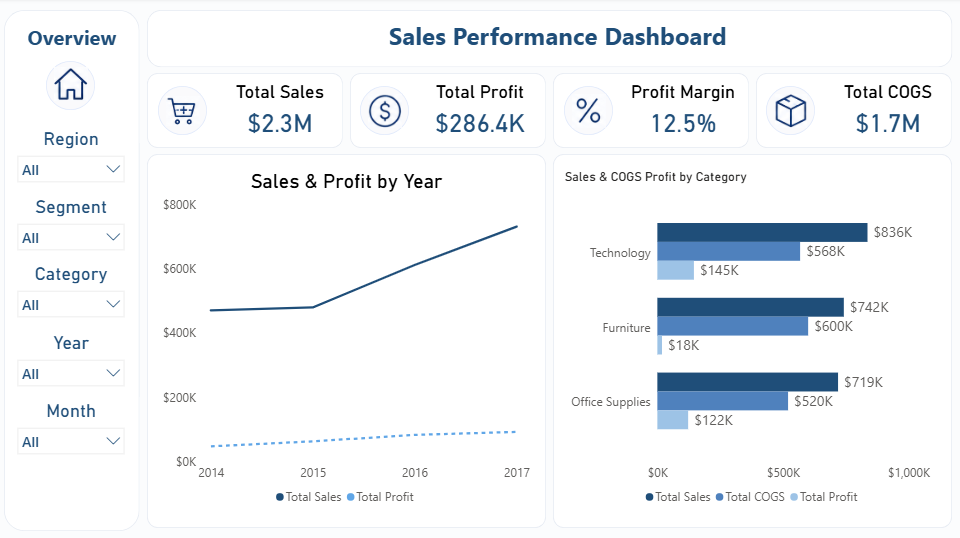

Layout of this report page (visuals, bound fields, positions):
{"tool":"powerbi","page":{"name":"Sales Overview","canvas":[1280,720],"ordinal":0},"visuals":[{"type":"shape","box":[199,16.1,1069.8,76.1],"z":0},{"type":"textbox","box":[505.1,22,480.3,64.7],"z":1000},{"type":"shape","box":[199.3,99.6,260.4,99.6],"z":2000},{"type":"shape","box":[468.9,99.6,260.4,99.6],"z":3000},{"type":"shape","box":[738.6,99.6,260.4,99.6],"z":4000},{"type":"shape","box":[1008.3,99.6,260.4,99.6],"z":5000},{"type":"shape","box":[199.3,207.2,530,496.8],"z":6000},{"type":"shape","box":[738.6,207.2,530,496.8],"z":7000},{"type":"shape","box":[8.8,16.1,180,692.2],"z":8000},{"type":"card","title":"Total Sales","fields":{"Values":["All Measures.Total Sales"]},"box":[304.2,110.3,143.5,78.4],"z":9000},{"type":"card","title":"Total Profit","fields":{"Values":["All Measures.Total Profit"]},"box":[569.9,110.3,143.5,78.4],"z":10000},{"type":"card","title":"Profit Margin","fields":{"Values":["All Measures.Profit Margin %"]},"box":[836.9,110.3,148.8,78.4],"z":11000},{"type":"card","title":"Total COGS","fields":{"Values":["All Measures.Total COGS"]},"box":[1111.9,110.3,143.5,78.4],"z":12000},{"type":"lineChart","title":"Sales & Profit by Year","fields":{"Category":["Calendar.Date.Variation.Date Hierarchy.Year","Calendar.Date.Variation.Date Hierarchy.Quarter","Calendar.Date.Variation.Date Hierarchy.Month","Calendar.Date.Variation.Date Hierarchy.Day"],"Y":["All Measures.Total Sales","All Measures.Total Profit"]},"box":[215.2,227.2,498.2,455.6],"z":13000},{"type":"clusteredBarChart","title":"Sales & COGS Profit by Category","fields":{"Y":["All Measures.Total Sales","All Measures.Total COGS","All Measures.Total Profit"],"Category":["Orders.Category"]},"box":[749.2,227.2,510.1,455.6],"z":14000},{"type":"slicer","title":"Region","fields":{"Values":["People.Region"]},"box":[17.6,172.7,162.4,90.7],"z":15000},{"type":"slicer","title":"Segment","fields":{"Values":["Orders.Segment"]},"box":[17.6,263.4,162.4,89.3],"z":16000},{"type":"textbox","box":[27.8,27.8,143.4,52.7],"z":17000},{"type":"shape","box":[213.9,116.9,65.1,65.1],"z":18000},{"type":"slicer","title":"Category","fields":{"Values":["Orders.Category"]},"box":[17.6,352.7,162.4,90.7],"z":19000},{"type":"slicer","title":"Year","fields":{"Values":["Calendar.Year"]},"box":[17.6,443.4,162.4,90.7],"z":20000},{"type":"slicer","title":"Month","fields":{"Values":["Calendar.Month"]},"box":[17.6,534.1,162.4,90.7],"z":21000},{"type":"image","box":[224.5,127.5,45.2,45.2],"z":22000},{"type":"shape","box":[482.2,116.9,65.1,65.1],"z":23000},{"type":"shape","box":[753.2,116.9,65.1,65.1],"z":24000},{"type":"shape","box":[1021.5,116.9,65.1,65.1],"z":25000},{"type":"image","box":[492.8,127.5,45.2,45.2],"z":26000},{"type":"image","box":[763.8,127.5,45.2,45.2],"z":27000},{"type":"image","box":[1032.2,127.5,45.2,45.2],"z":28000},{"type":"shape","box":[65.1,83.7,65.1,65.1],"z":29000},{"type":"image","box":[75.7,91.7,45.2,45.2],"z":30000}]}

Visuals, with their boxes in screenshot pixels (x1, y1, x2, y2), scaled from the page's 1280x720 canvas onto the 960x538 screenshot:
shape: <bbox>149, 12, 952, 69</bbox>
textbox: <bbox>379, 16, 739, 65</bbox>
shape: <bbox>149, 74, 345, 149</bbox>
shape: <bbox>352, 74, 547, 149</bbox>
shape: <bbox>554, 74, 749, 149</bbox>
shape: <bbox>756, 74, 952, 149</bbox>
shape: <bbox>149, 155, 547, 526</bbox>
shape: <bbox>554, 155, 951, 526</bbox>
shape: <bbox>7, 12, 142, 529</bbox>
"Total Sales" card: <bbox>228, 82, 336, 141</bbox>
"Total Profit" card: <bbox>427, 82, 535, 141</bbox>
"Profit Margin" card: <bbox>628, 82, 739, 141</bbox>
"Total COGS" card: <bbox>834, 82, 942, 141</bbox>
"Sales & Profit by Year" lineChart: <bbox>161, 170, 535, 510</bbox>
"Sales & COGS Profit by Category" clusteredBarChart: <bbox>562, 170, 944, 510</bbox>
"Region" slicer: <bbox>13, 129, 135, 197</bbox>
"Segment" slicer: <bbox>13, 197, 135, 264</bbox>
textbox: <bbox>21, 21, 128, 60</bbox>
shape: <bbox>160, 87, 209, 136</bbox>
"Category" slicer: <bbox>13, 264, 135, 331</bbox>
"Year" slicer: <bbox>13, 331, 135, 399</bbox>
"Month" slicer: <bbox>13, 399, 135, 467</bbox>
image: <bbox>168, 95, 202, 129</bbox>
shape: <bbox>362, 87, 410, 136</bbox>
shape: <bbox>565, 87, 614, 136</bbox>
shape: <bbox>766, 87, 815, 136</bbox>
image: <bbox>370, 95, 404, 129</bbox>
image: <bbox>573, 95, 607, 129</bbox>
image: <bbox>774, 95, 808, 129</bbox>
shape: <bbox>49, 63, 98, 111</bbox>
image: <bbox>57, 69, 91, 102</bbox>
